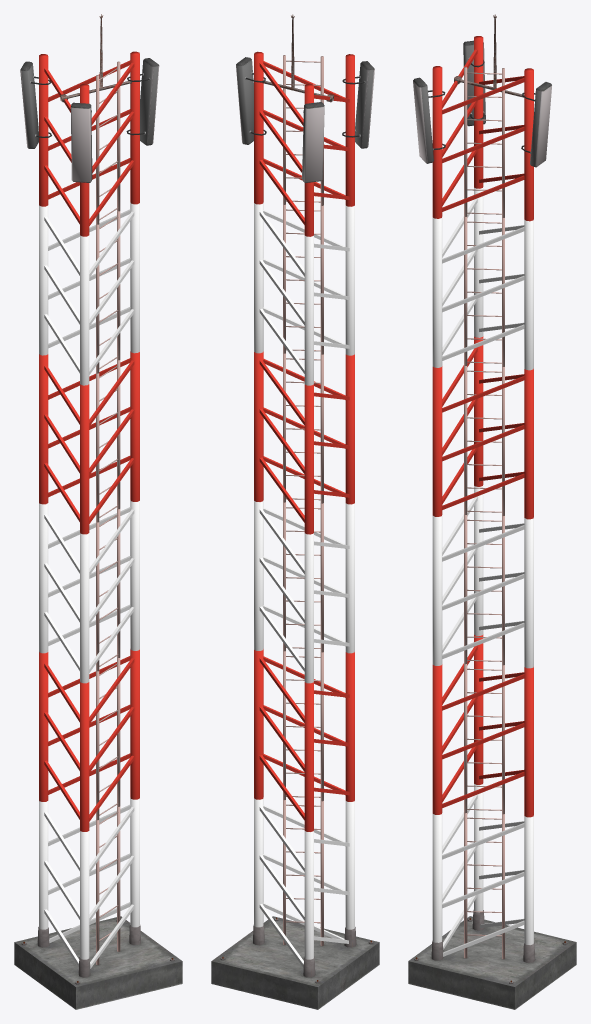
Rendered from radio-tower.glb.
The picture shows the model from 3 angles, left to right: view 1: azimuth 30°, elevation 25°; view 2: azimuth 150°, elevation 25°; view 3: azimuth 330°, elevation 25°; orthographic projection.
Parts seen in each view (by area): view 1: Base, Tower.003, Tower.004, Tower.002, Tower.001, Tower, Tower.005, Sectorial.002, Sectorial, Sectorial.001, Stairs.005, Stairs.004 (+5 smaller); view 2: Base, Tower.004, Tower.003, Tower.002, Tower.001, Tower, Tower.005, Sectorial.001, Sectorial.002, Sectorial, Stairs.004, Stairs.002 (+5 smaller); view 3: Base, Tower.004, Tower.003, Tower.002, Tower.001, Tower.005, Tower, Sectorial, Stairs.005, Stairs.004, Stairs.003, Stairs.001 (+5 smaller).
Boxes of the visible parts, x1,y1,x2,y2 form: Base: [14, 916, 182, 1009]; Tower.003: [39, 351, 139, 534]; Tower.004: [39, 202, 139, 385]; Tower.002: [39, 500, 139, 683]; Tower.001: [39, 649, 139, 831]; Tower: [39, 797, 139, 968]; Tower.005: [39, 51, 139, 236]; Sectorial.002: [70, 102, 92, 182]; Sectorial: [126, 58, 159, 145]; Sectorial.001: [20, 61, 51, 148]; Stairs.005: [96, 61, 120, 224]; Stairs.004: [96, 211, 120, 373]; Base: [211, 916, 379, 1009]; Tower.004: [254, 202, 354, 385]; Tower.003: [254, 351, 354, 534]; Tower.002: [254, 500, 354, 683]; Tower.001: [254, 649, 354, 831]; Tower: [254, 797, 354, 967]; Tower.005: [254, 51, 354, 236]; Sectorial.001: [302, 102, 324, 182]; Sectorial.002: [342, 61, 374, 148]; Sectorial: [236, 57, 266, 144]; Stairs.004: [283, 204, 323, 354]; Stairs.002: [283, 502, 323, 652]; Base: [408, 910, 576, 1009]; Tower.004: [432, 187, 533, 370]; Tower.003: [432, 336, 533, 519]; Tower.002: [432, 485, 533, 668]; Tower.001: [432, 634, 533, 817]; Tower.005: [432, 36, 533, 221]; Tower: [432, 783, 533, 956]; Sectorial: [521, 82, 551, 167]; Stairs.005: [464, 67, 504, 217]; Stairs.004: [464, 216, 504, 366]; Stairs.003: [464, 366, 504, 515]; Stairs.001: [464, 664, 504, 814].
Size of what is drawn, in the model's own units: 0.7154 by 6 by 0.7128.
6 materials, 3 textured.
